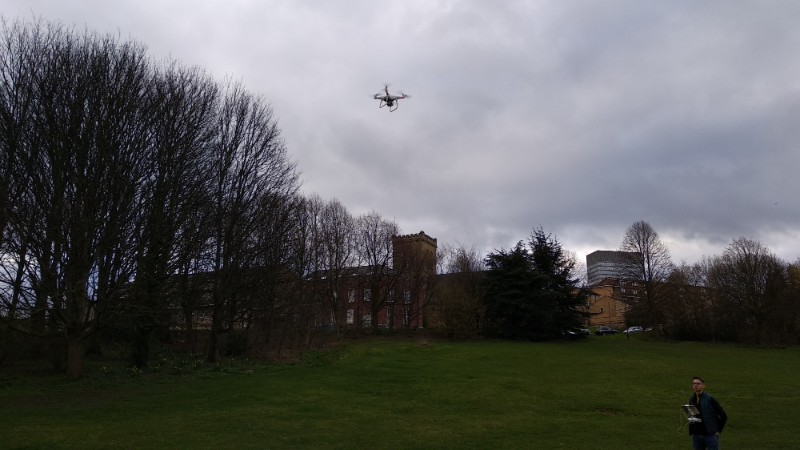drone: (372, 82, 411, 112)
